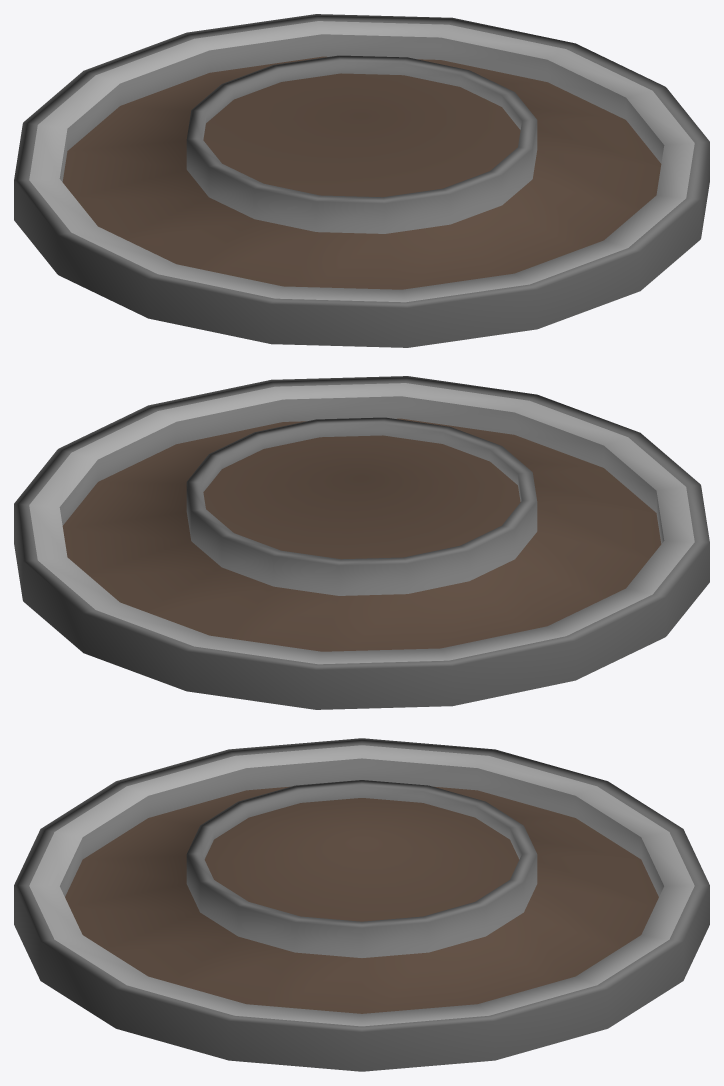
Rendered from Roundabout_01 (1).fbx.
The picture shows the model from 3 angles, top to bottom: view 1: azimuth 30°, elevation 25°; view 2: azimuth 150°, elevation 25°; view 3: azimuth 270°, elevation 25°; orthographic projection.
Parts seen in each view (by area): view 1: Roundabout_01; view 2: Roundabout_01; view 3: Roundabout_01.
Boxes of the visible parts, <box> form: Roundabout_01: <box>14,14,709,347</box>; Roundabout_01: <box>14,376,709,709</box>; Roundabout_01: <box>14,738,709,1071</box>.
Bounding box in the file's own units: 11.32 × 1.52 × 11.32.
